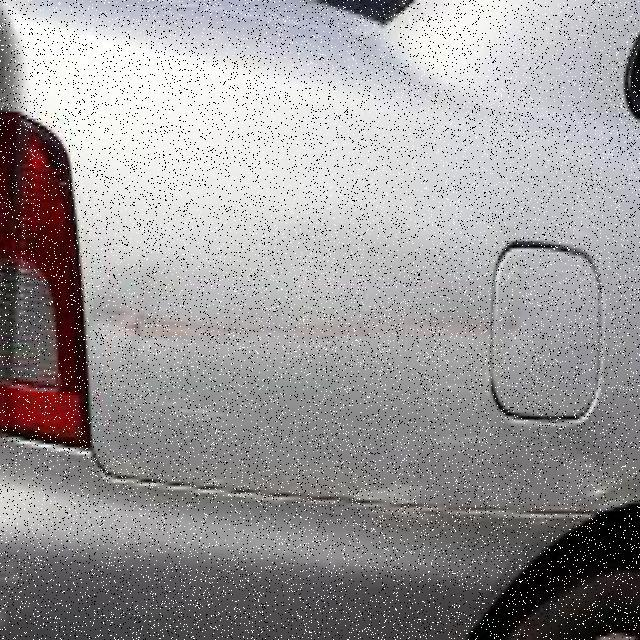quaterpanel-dent: (95, 7, 638, 507)
